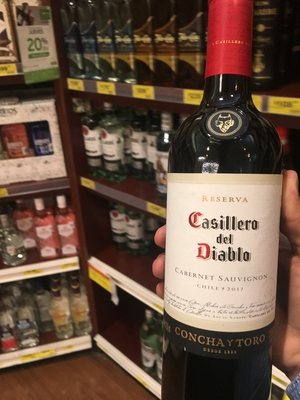casillero del diablo cabernet sauvignon: (144, 15, 284, 400)
